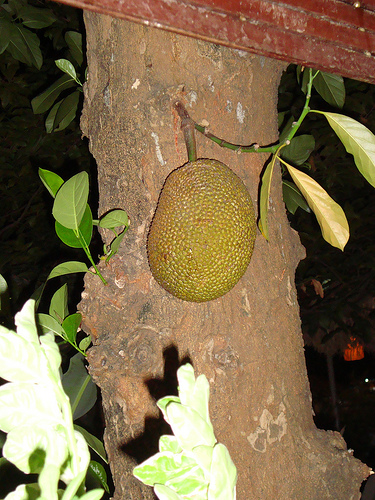jackfruit: (147, 157, 255, 301)
